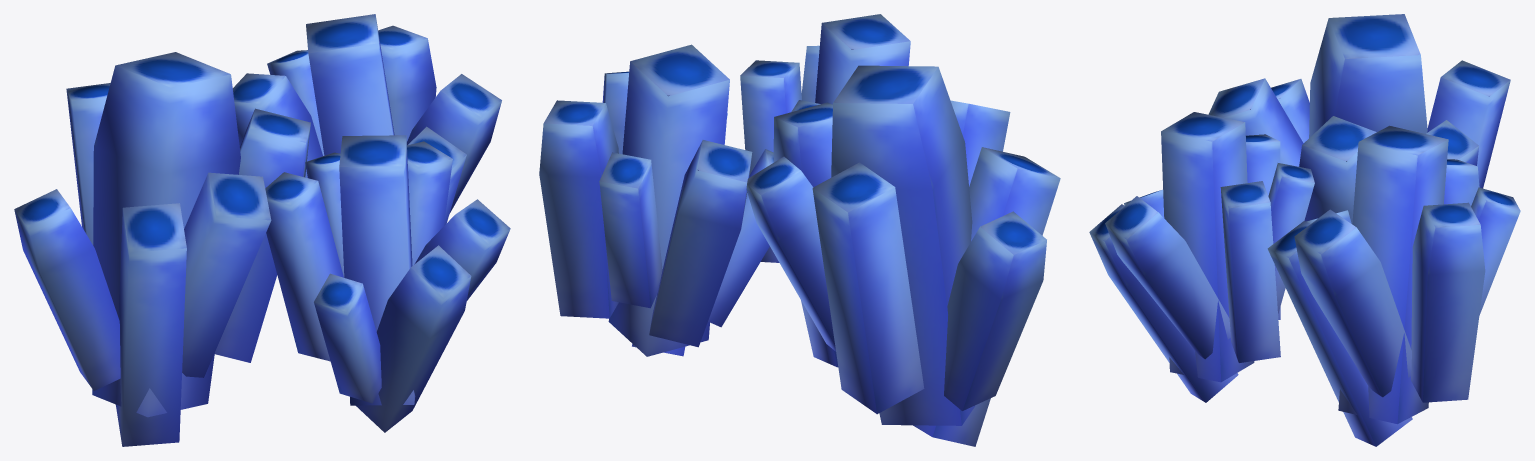
File: Battle05_Other_015.FBX
3 renders of one model, left to right at view 1: azimuth 30°, elevation 25°; view 2: azimuth 150°, elevation 25°; view 3: azimuth 270°, elevation 25°, orthographic. The views are drawn at different scales.
Visible parts, largest first — view 1: Battle05_Other_015; view 2: Battle05_Other_015; view 3: Battle05_Other_015.
Part boxes in pixels (box(x1,y1,x2,y2)): Battle05_Other_015: box(14, 14, 510, 446); Battle05_Other_015: box(539, 14, 1060, 446); Battle05_Other_015: box(1089, 14, 1520, 446).
Size of the model in its own units: 2.04 by 1.53 by 1.78.
